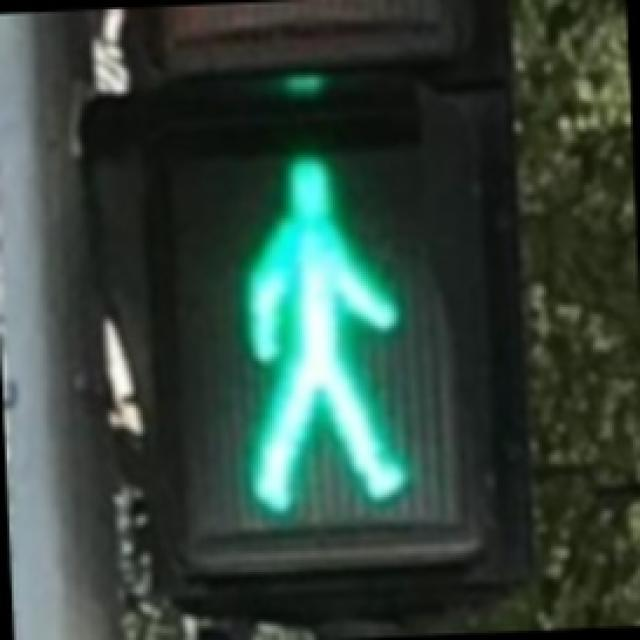green_light: (176, 96, 460, 535)
